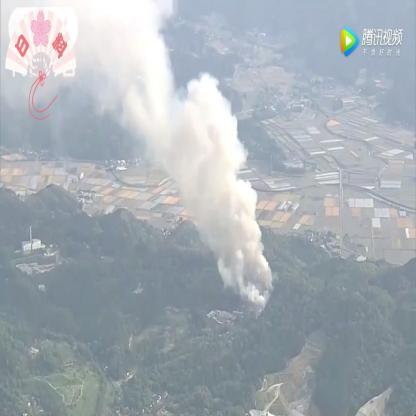smoke: (80, 0, 175, 120), (152, 118, 238, 203), (199, 202, 260, 272), (175, 72, 235, 119), (226, 262, 276, 314), (239, 136, 258, 203)
